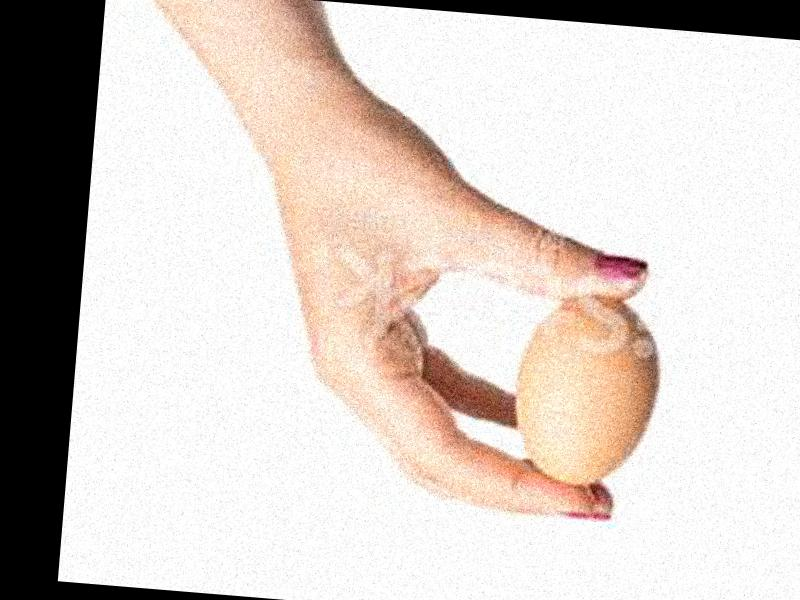Eggs: (511, 288, 659, 490)
